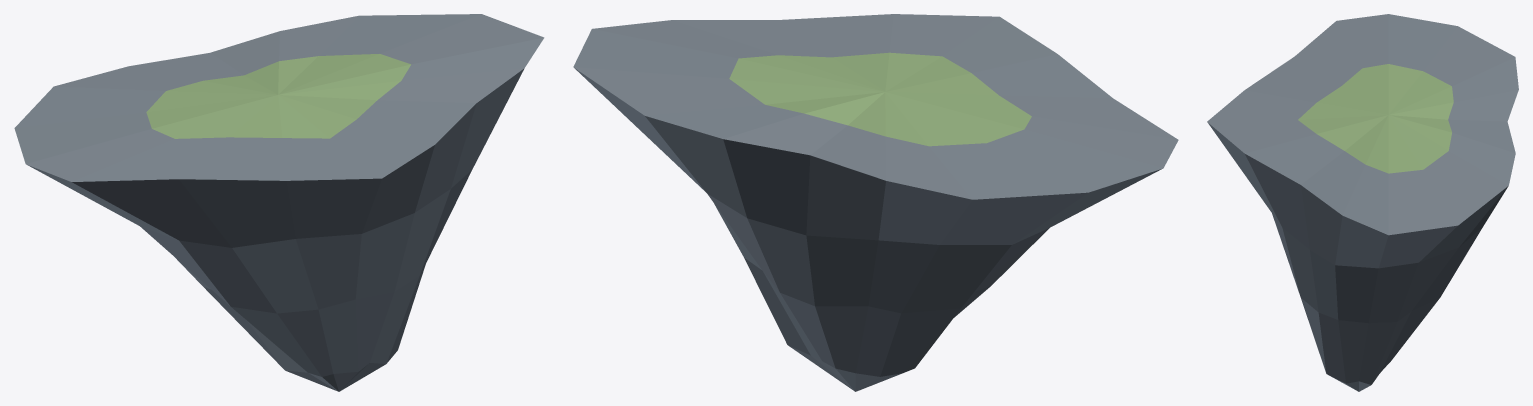
File: island_rock_medium.glb
The picture shows the model from 3 angles, left to right: view 1: azimuth 30°, elevation 25°; view 2: azimuth 150°, elevation 25°; view 3: azimuth 270°, elevation 25°; orthographic projection. The views are drawn at different scales.
Visible parts, largest first — view 1: Rock_Island_Medium; view 2: Rock_Island_Medium; view 3: Rock_Island_Medium.
Part boxes in pixels (x1,y1,x2,y2): Rock_Island_Medium: (14, 14, 544, 391); Rock_Island_Medium: (573, 14, 1178, 391); Rock_Island_Medium: (1207, 14, 1518, 391).
Size of the model in its own units: 14.15 by 7.7 by 8.43.
